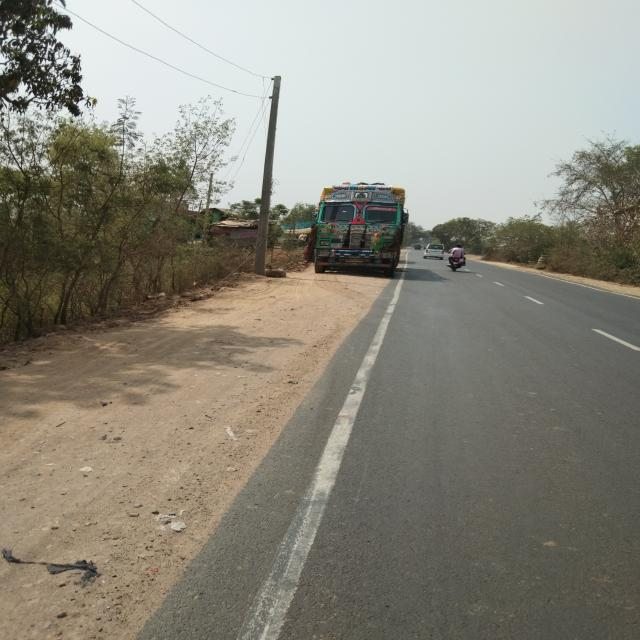Truck: (304, 182, 401, 274)
